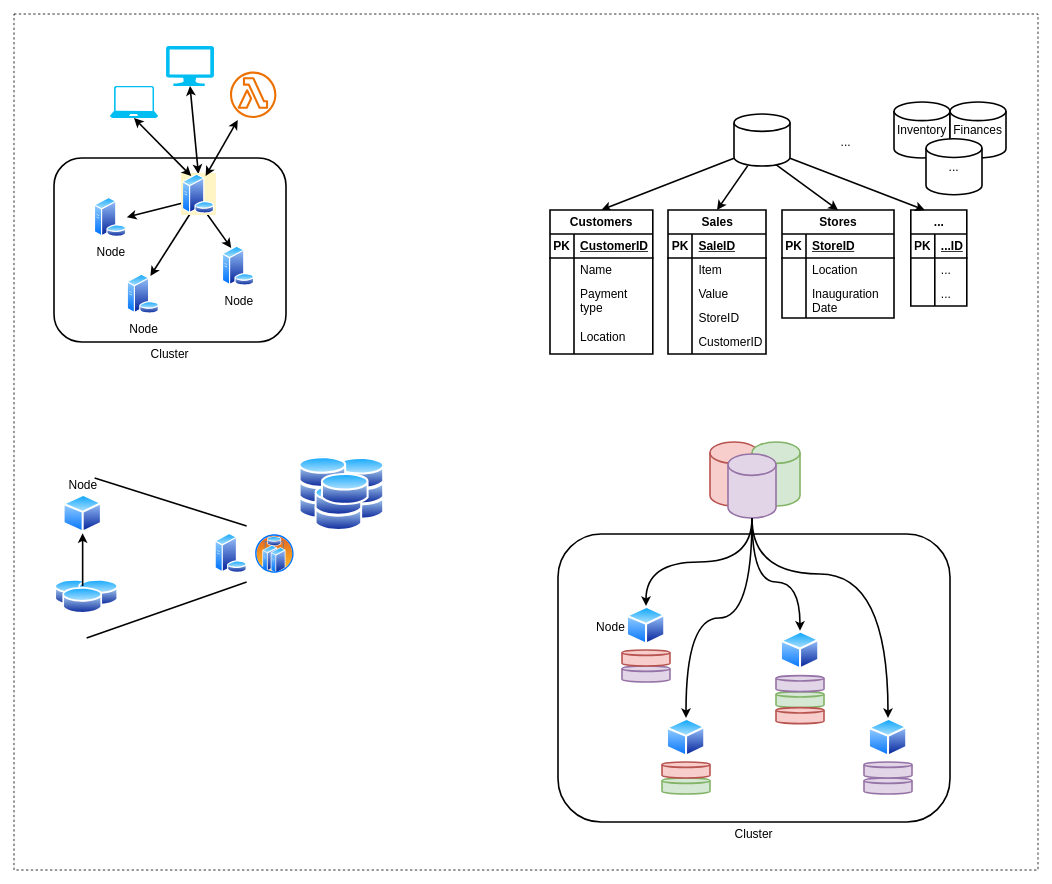
The diagram is 1052 pixels wide and 884 high, and some of its shapes have lost their labels. Each missing label, with the centre of its shape:
"Leader Node" belongs at (x=198, y=194).
"Sales Data" belongs at (x=761, y=139).
